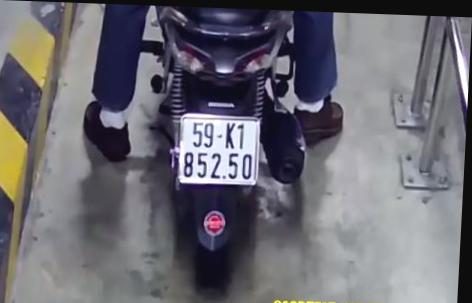License_Plate: (171, 110, 264, 193)
